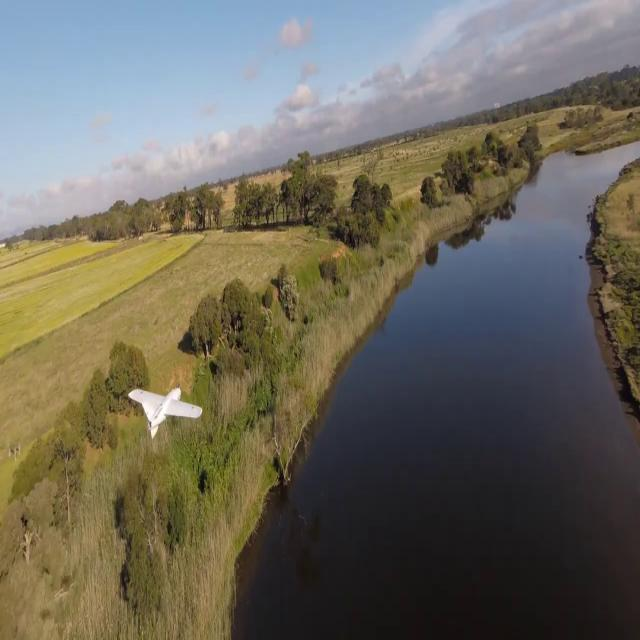iha: (163, 385, 169, 426)
